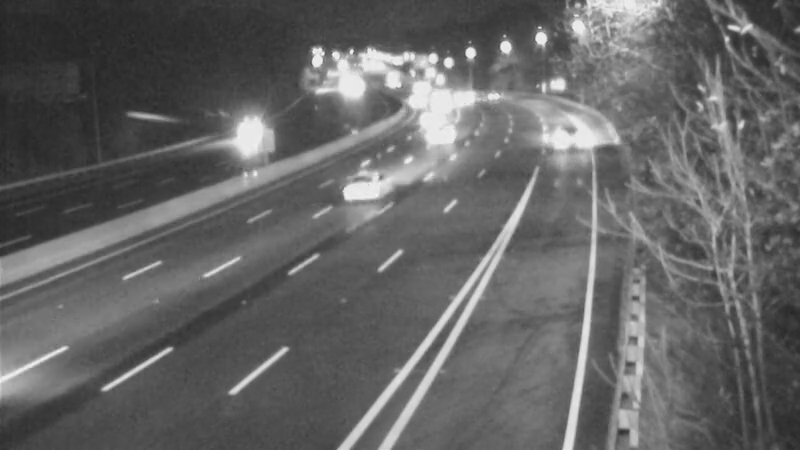vehicle: (325, 134, 405, 214), (436, 72, 486, 122), (388, 78, 438, 128), (465, 70, 515, 120), (416, 80, 466, 130), (404, 87, 454, 137), (537, 119, 587, 169), (424, 103, 474, 153), (215, 115, 265, 165)
